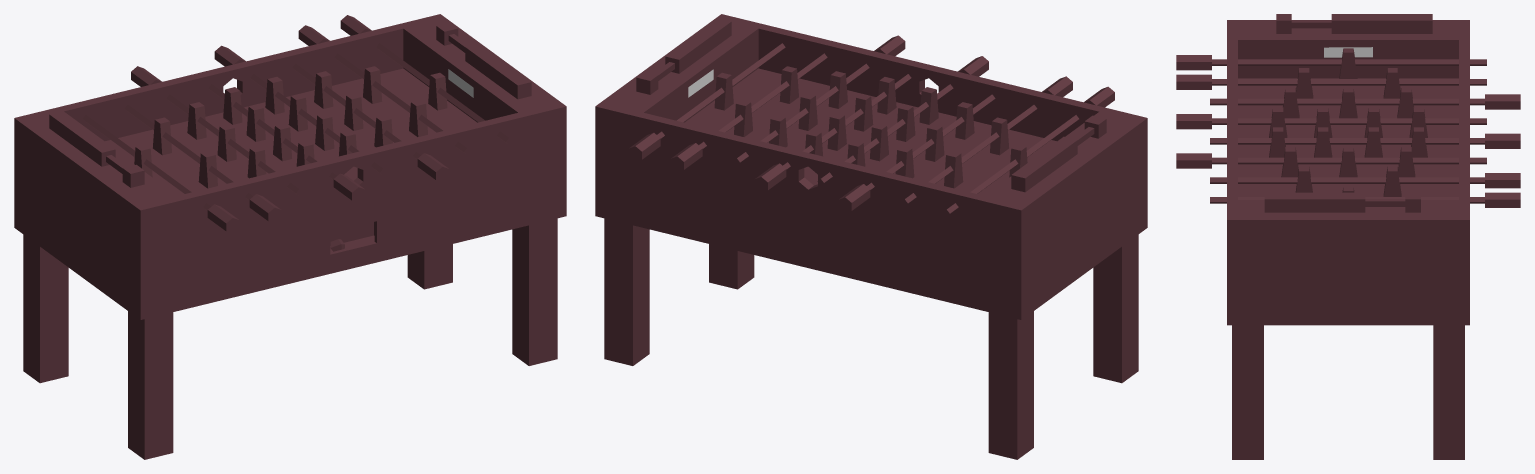
Rendered from table-football.fbx.
3 views of the same model, side by side, from view 1: azimuth 30°, elevation 25°; view 2: azimuth 150°, elevation 25°; view 3: azimuth 270°, elevation 25° (orthographic). The views are drawn at different scales.
Parts seen in each view (by area): view 1: table-football; view 2: table-football; view 3: table-football.
Part boxes in pixels (x1,y1,x2,y2): table-football: (14,14,566,459); table-football: (595,14,1147,459); table-football: (1176,14,1520,459).
Bounding box in the file's own units: 1.7 × 1.02 × 1.24.
